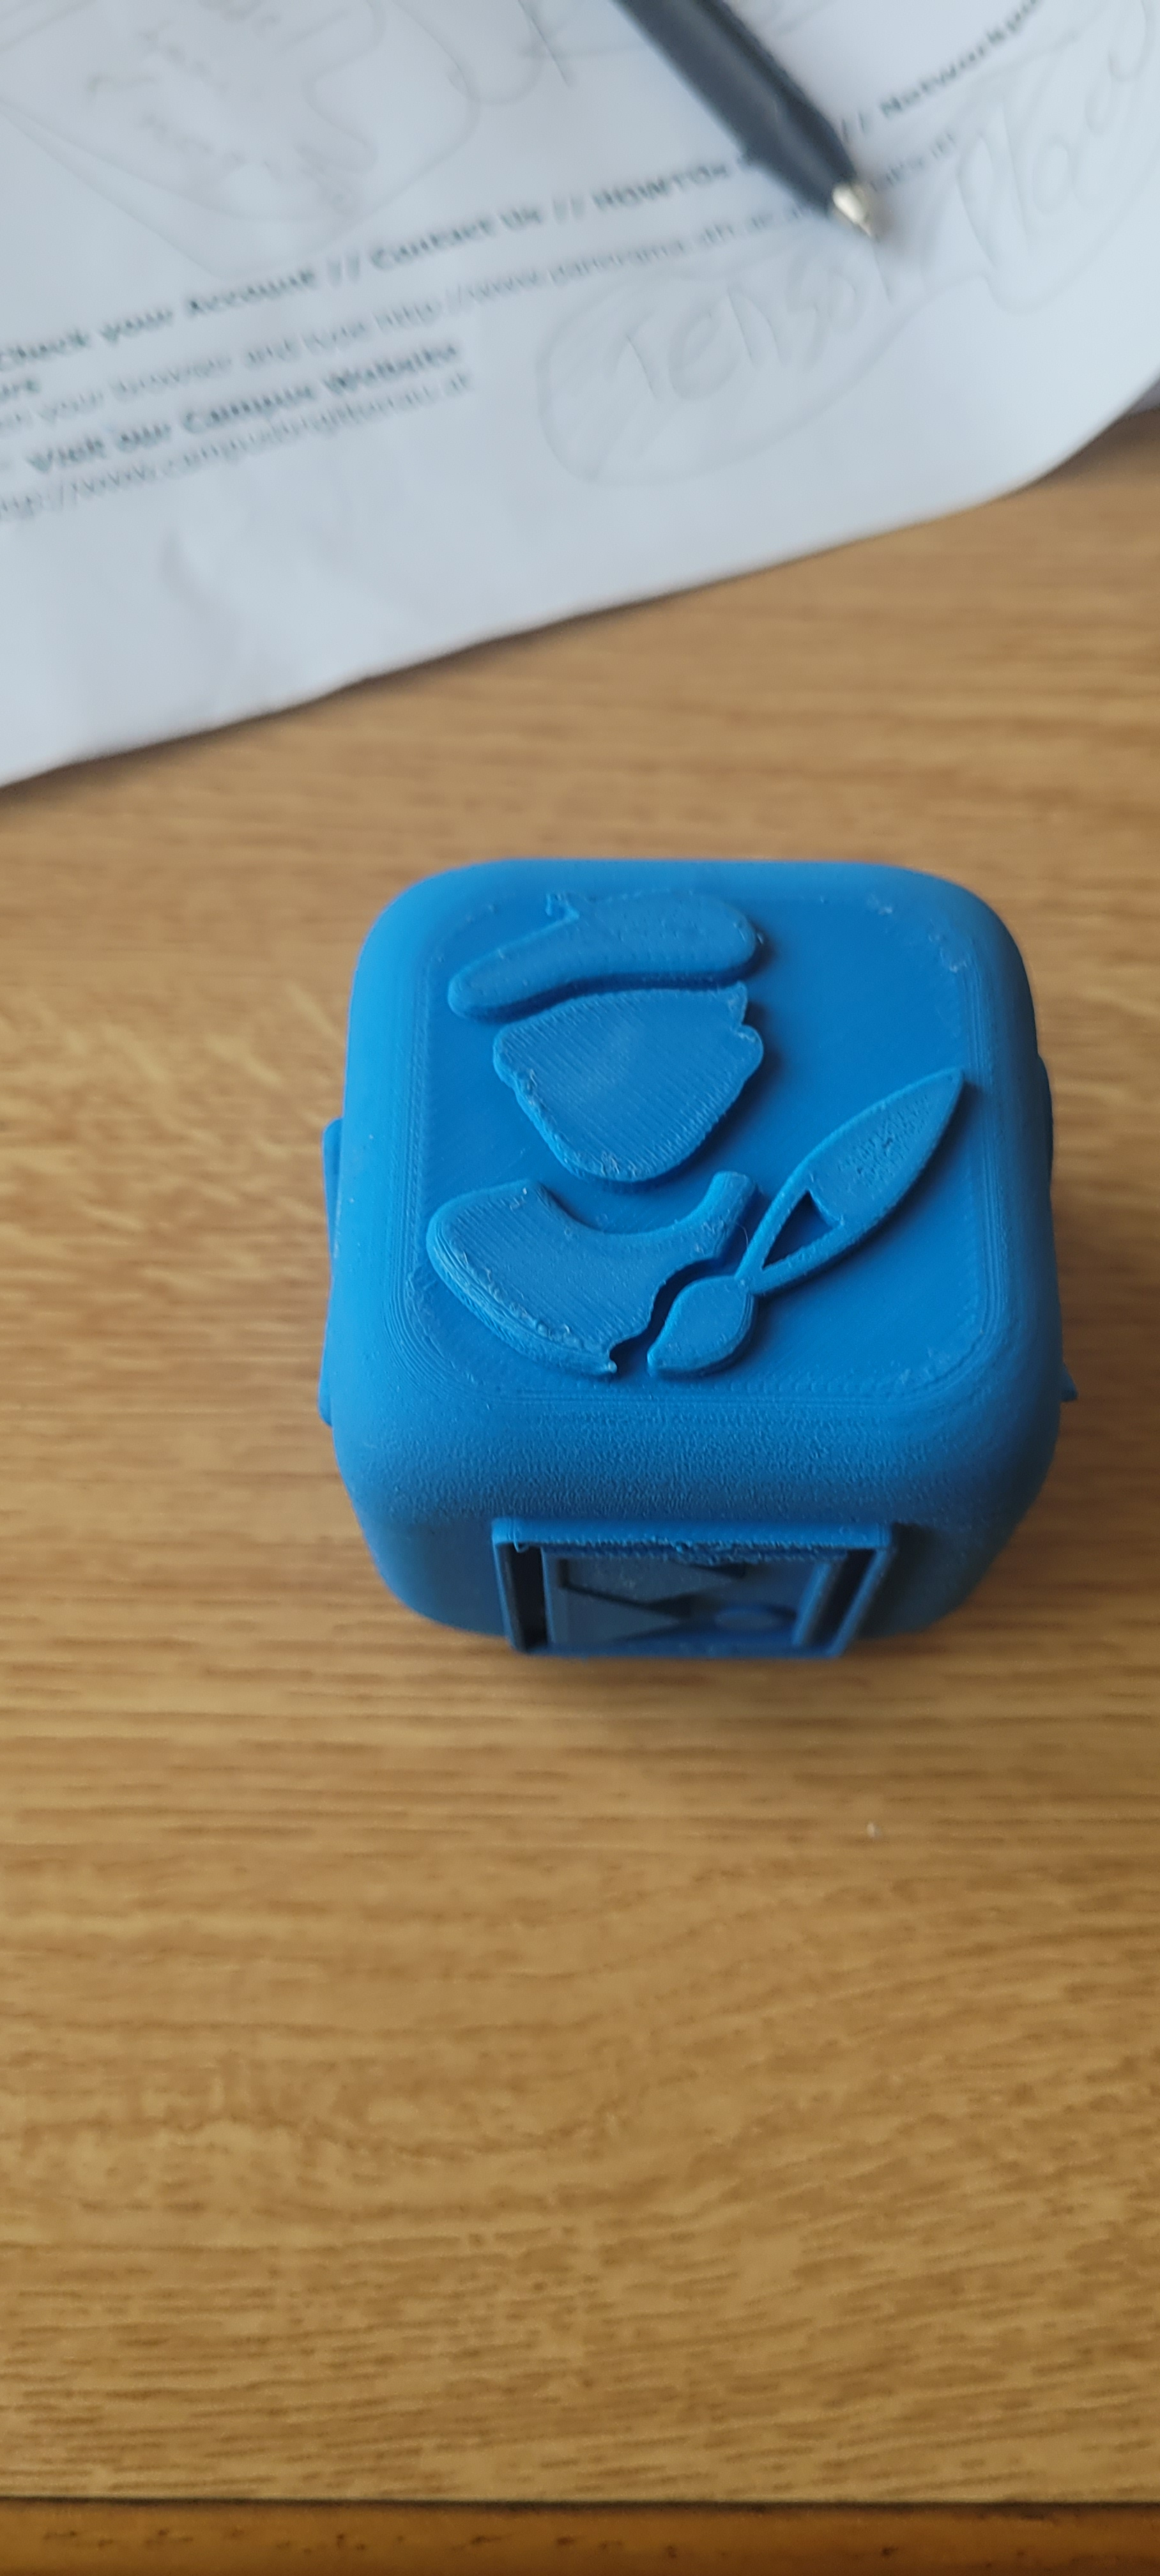Artist_Info: (324, 759, 1083, 1595)
